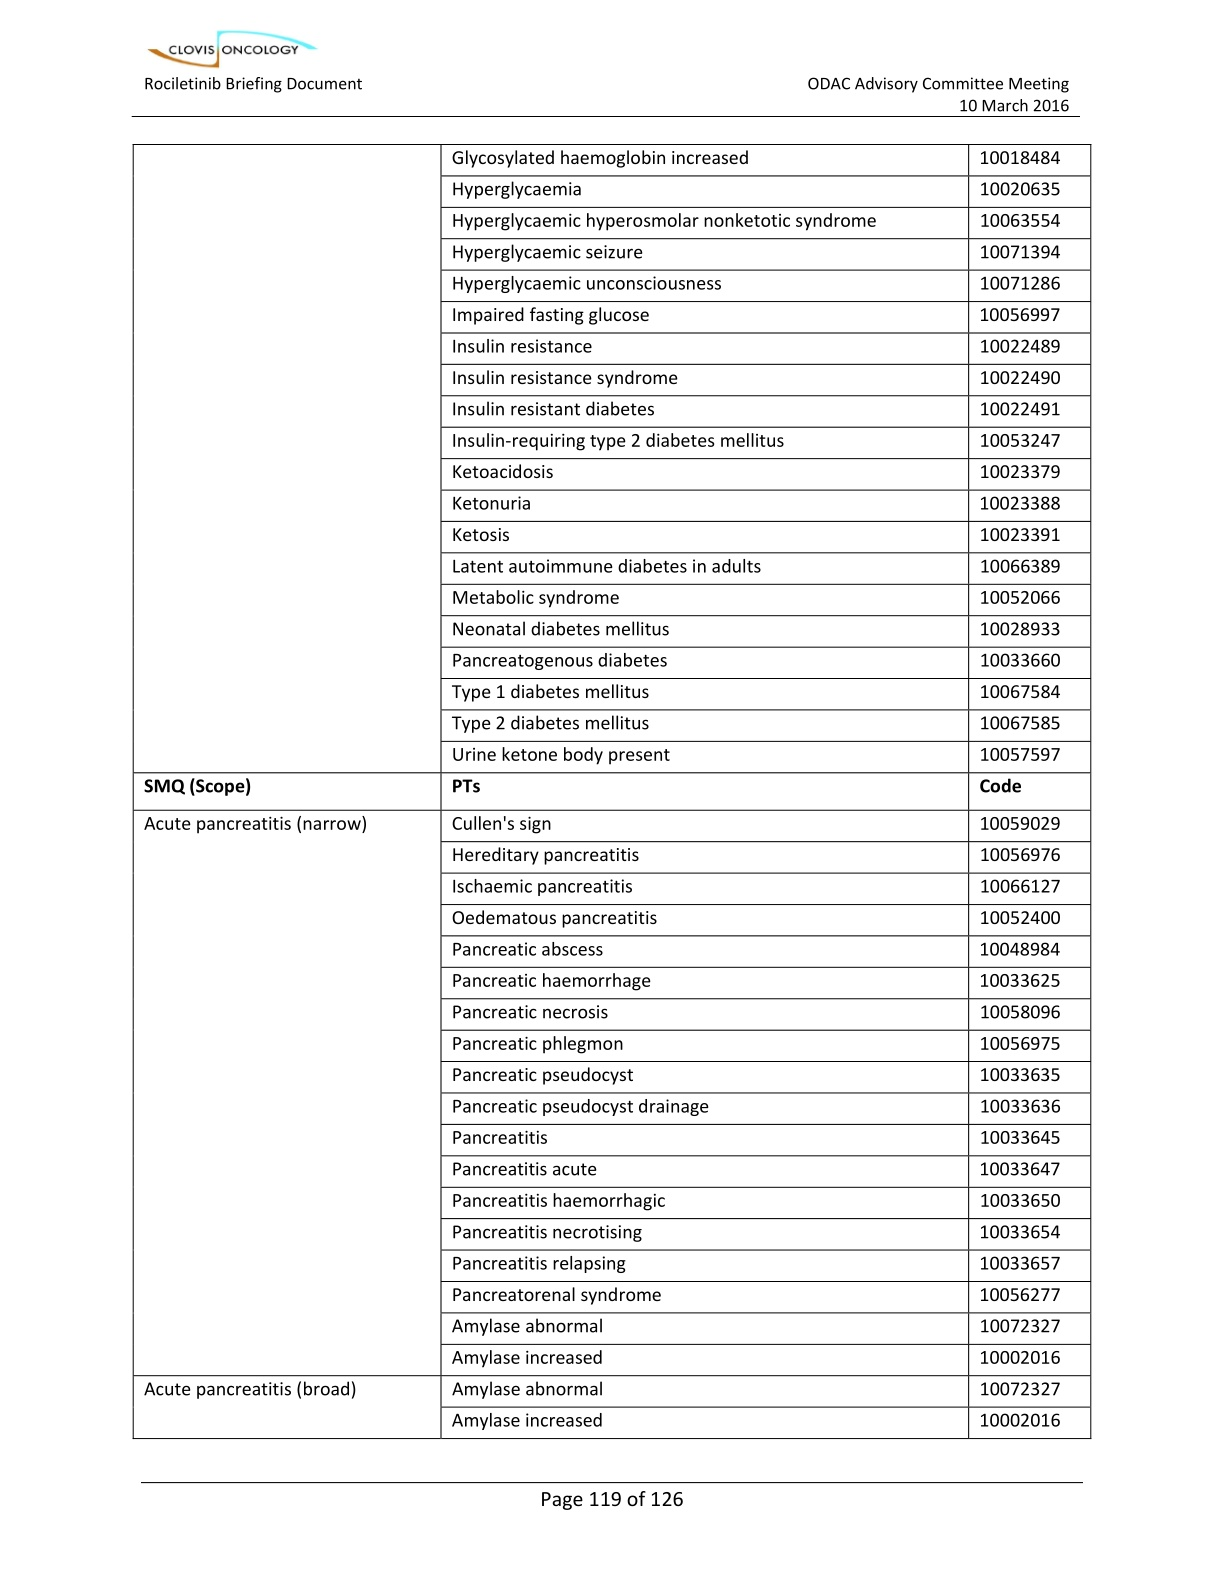merged_cells: (132, 143, 1093, 1440)
